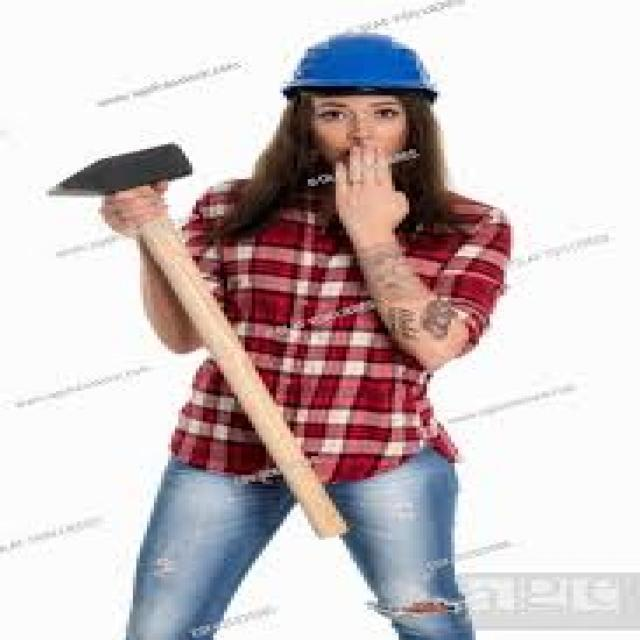hammer: (36, 138, 358, 548)
